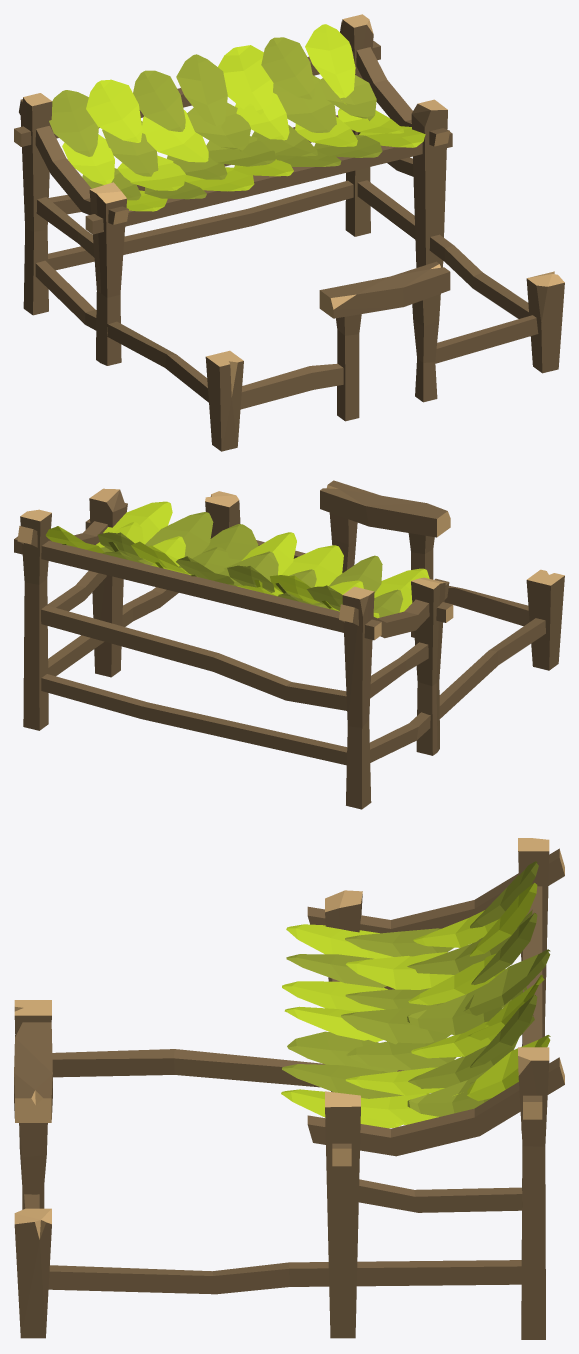
File: Wood_storage_0.fbx
The picture shows the model from 3 angles, top to bottom: view 1: azimuth 30°, elevation 25°; view 2: azimuth 150°, elevation 25°; view 3: azimuth 270°, elevation 25°; orthographic projection. The views are drawn at different scales.
Parts seen in each view (by area): view 1: Cube.221; view 2: Cube.221; view 3: Cube.221.
Boxes of the visible parts, x1,y1,x2,y2 form: Cube.221: [14, 14, 564, 451]; Cube.221: [14, 480, 564, 809]; Cube.221: [14, 838, 564, 1339].
Bounding box in the file's own units: 1431 × 812 × 1424.
